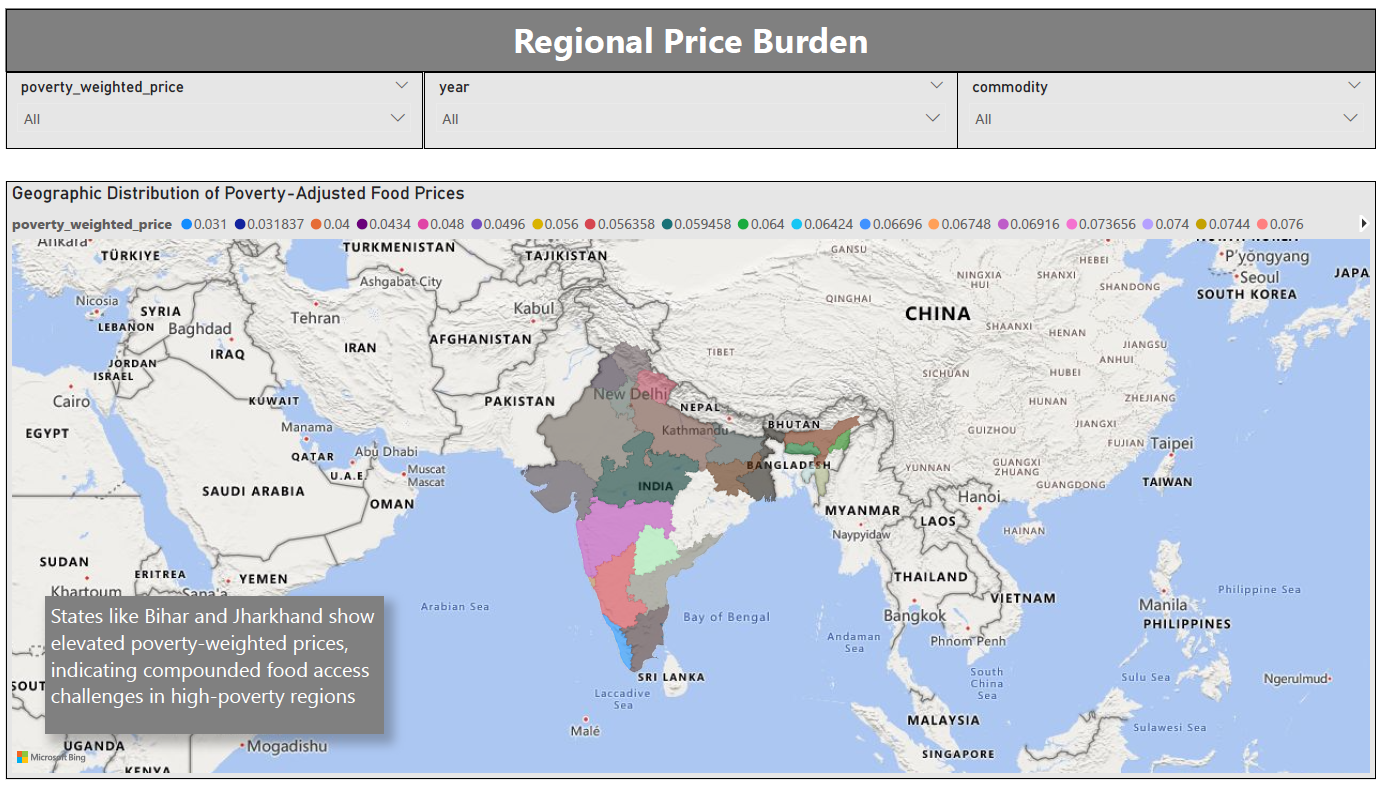

The dashboard page shown, as its layout file describes it:
{"tool":"powerbi","page":{"name":"Vulnerability Map","canvas":[1280,720],"ordinal":1},"visuals":[{"type":"filledMap","title":"Geographic Distribution of Poverty-Adjusted Food Prices","fields":{"Category":["df_matched.state_name"],"Series":["df_matched.poverty_weighted_price"]},"box":[0,161.4,1280,558.6],"z":0},{"type":"slicer","fields":{"Values":["df_matched.year"]},"box":[391.4,58.6,498.6,72.9],"z":1000},{"type":"slicer","fields":{"Values":["df_matched.commodity"]},"box":[888.6,58.6,391.4,72.9],"z":2000},{"type":"slicer","fields":{"Values":["df_matched.poverty_weighted_price"]},"box":[0,58.6,390,72.9],"z":3000},{"type":"textbox","box":[0,0,1280,58.6],"z":3001},{"type":"textbox","box":[37.1,548.6,315.7,128.6],"z":3002}]}

Visuals, with their boxes in screenshot pixels (x1, y1, x2, y2), scaled from the page's 1280x720 canvas onto the 1382x785 screenshot:
"Geographic Distribution of Poverty-Adjusted Food Prices" filledMap: locate(0, 176, 1381, 784)
slicer - df_matched.year: locate(423, 64, 961, 143)
slicer - df_matched.commodity: locate(959, 64, 1381, 143)
slicer - df_matched.poverty_weighted_price: locate(0, 64, 421, 143)
textbox: locate(0, 0, 1381, 64)
textbox: locate(40, 598, 381, 738)
